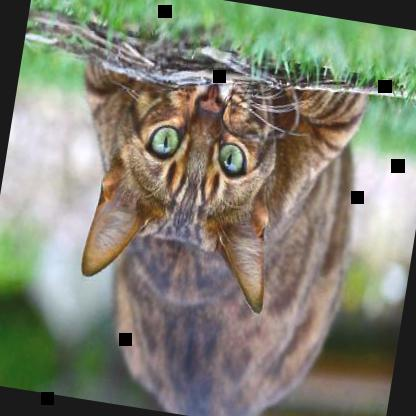cat: (33, 48, 377, 415)
